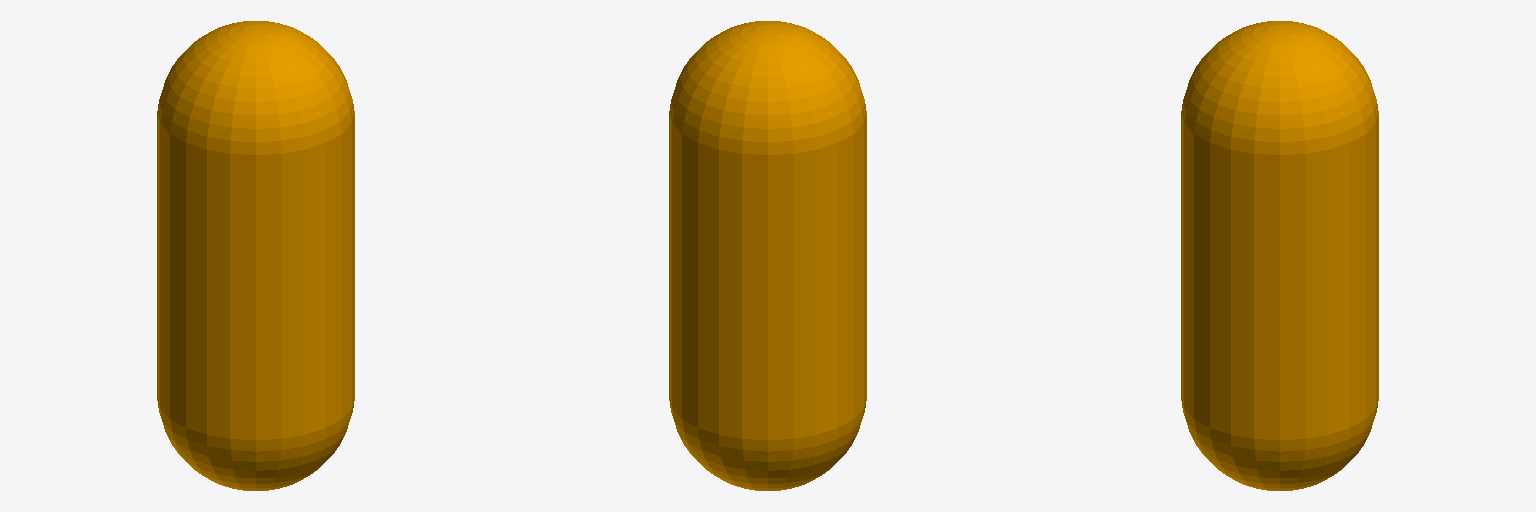
robot.urdf — object:
<?xml version="1.0"?>
<!-- Auto-generated by tools/gen_primitive_objects.py. kind=cap dims=(0.028, 0.085) -->
<robot name="object">
  <link name="object">
    <visual>
      <origin xyz="0 0 0"/>
      <geometry>
        <mesh filename="obj_0.stl"/>
      </geometry>
    </visual>
    <collision>
      <origin xyz="0 0 0"/>
      <geometry>
        <mesh filename="obj_0.stl"/>
      </geometry>
    </collision>
    <inertial>
      <mass value="0.060262"/>
      <inertia ixx="0.00008882" ixy="0.0" ixz="0.0" iyy="0.00008882" iyz="0.0" izz="0.00002218"/>
    </inertial>
  </link>
</robot>

--- What the picture shows (computed from the rendered views, not written in the file) ---
Views: 3 orthographic renders of the robot side by side, from view 1: azimuth 30°, elevation 25°; view 2: azimuth 150°, elevation 25°; view 3: azimuth 270°, elevation 25°.
Robot: object — 1 links, 0 joints (none); root link object; default pose: every joint at zero.
Visible links, largest first — view 1: object; view 2: object; view 3: object.
Boxes of the visible links, bbox=[...] form: object: bbox=[157, 21, 354, 490]; object: bbox=[669, 21, 866, 490]; object: bbox=[1181, 21, 1378, 490].
Bounding box of the posed robot: 0.0559 × 0.0559 × 0.141 m (x, y, z).
Meshes: 1 distinct files referenced, 1 mesh visuals loaded (1 binary STL).
